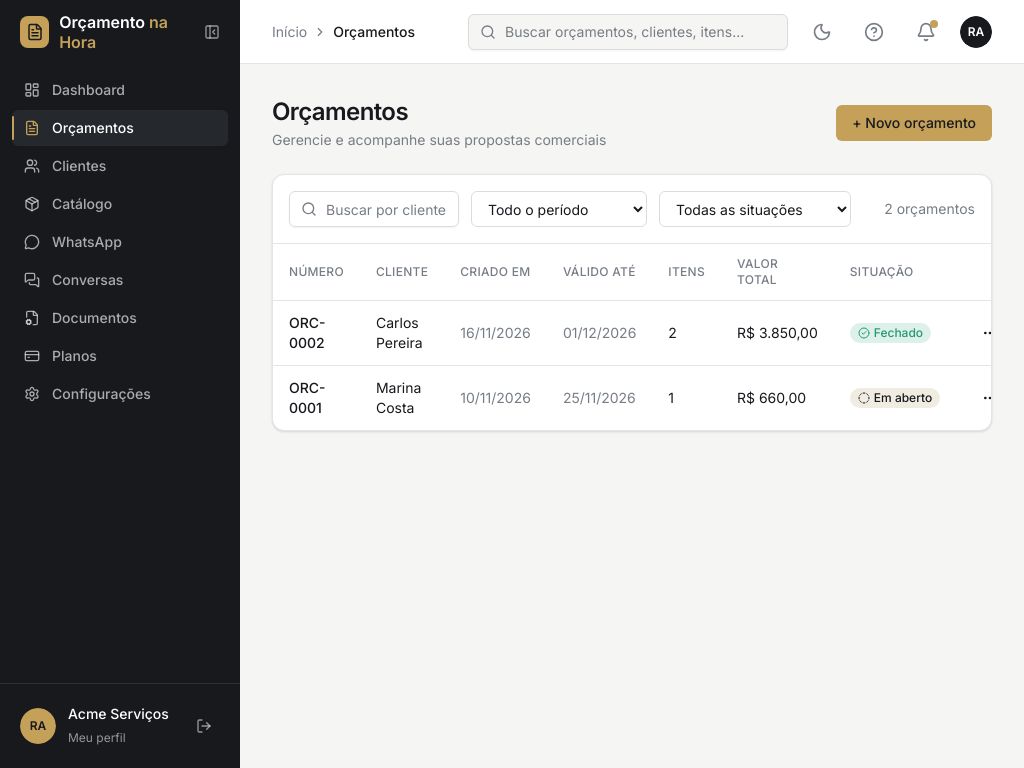
Test: cancelamento e resultado do orçamento › cancelar exige motivo e registra categoria e texto
Click the button named "Ações de ORC-0001" at (990, 398), box [972,380,1008,416]
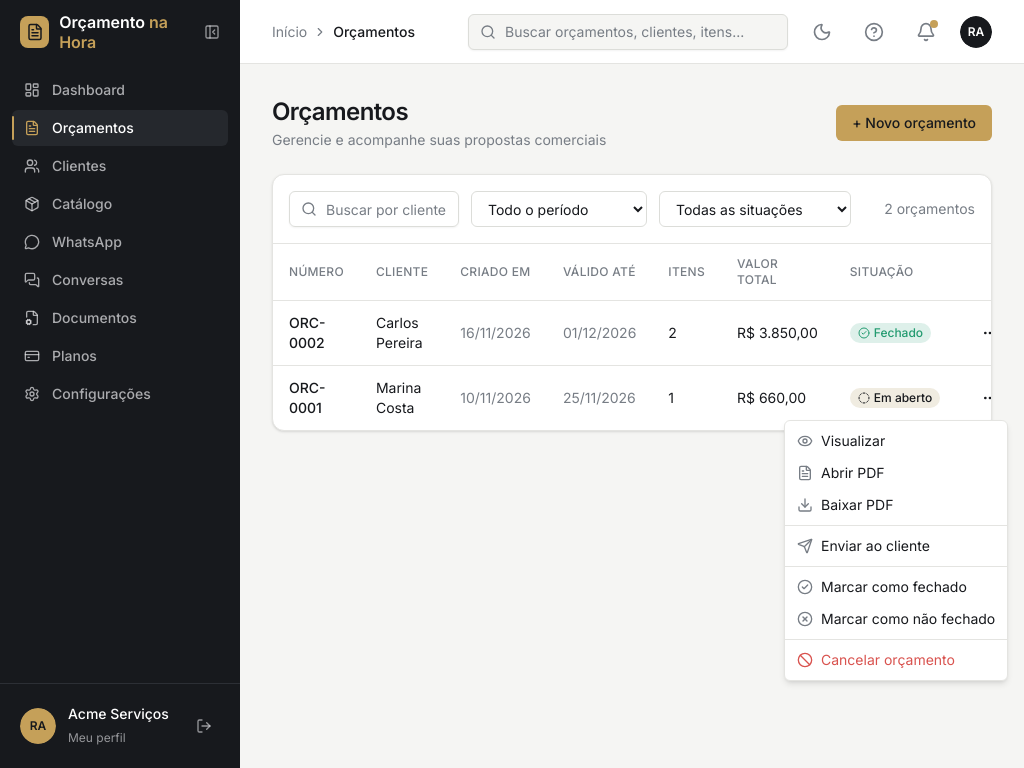
Click the menu item "Cancelar orçamento" at (876, 660), box [797,651,955,668]
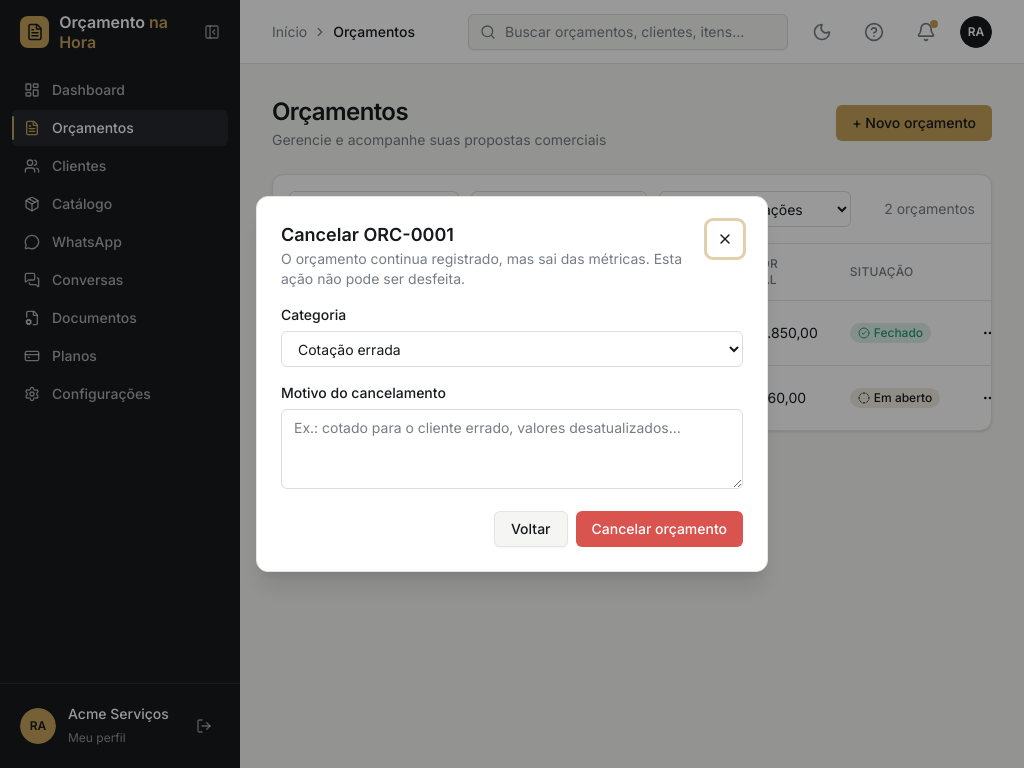
Click the button "Cancelar orçamento" at (659, 529), box [576,511,743,547]
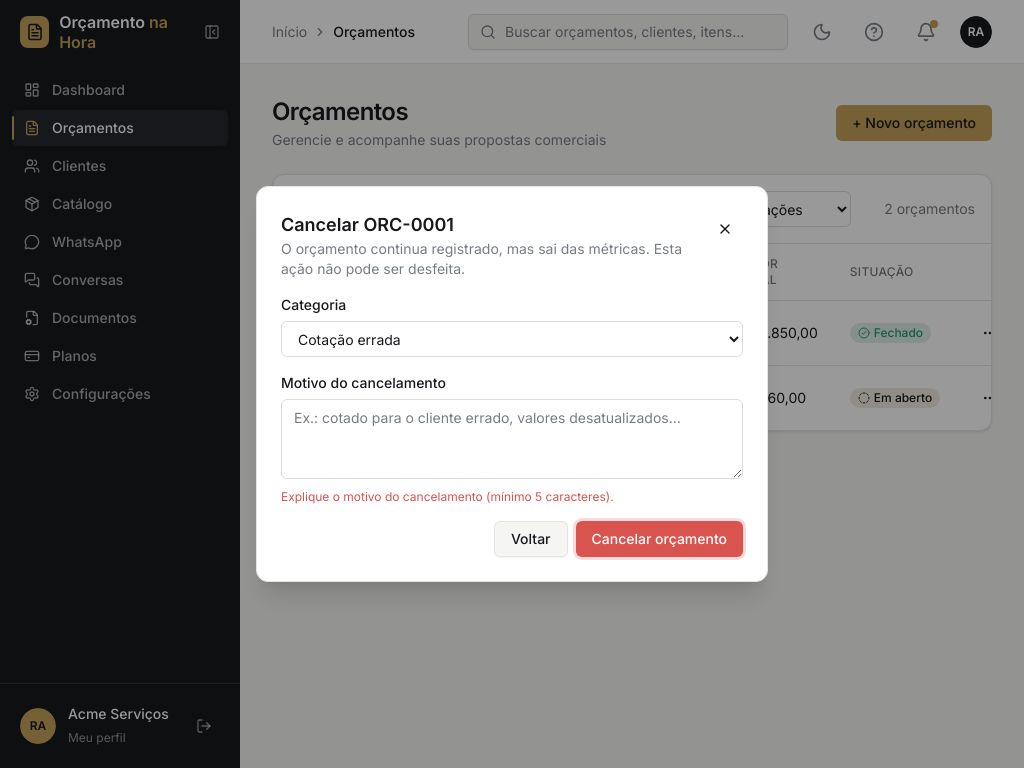
Expected: the message shows "mínimo 5 caracteres", [281,489,614,504]
Select "Orçamento duplicado" in the dropdown labelled "Categoria" at (512, 339), box [281,321,743,357]
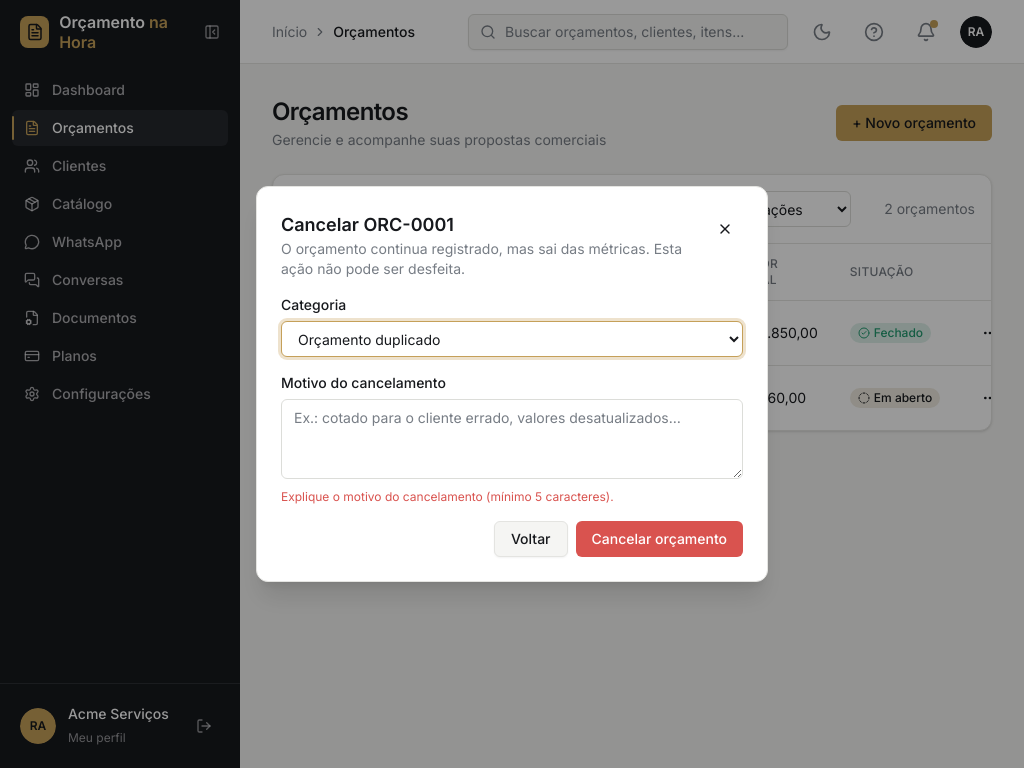
Type "Cotado em duplicidade" into the text box labelled "Motivo do cancelamento" at (512, 439), box [281,399,743,479]
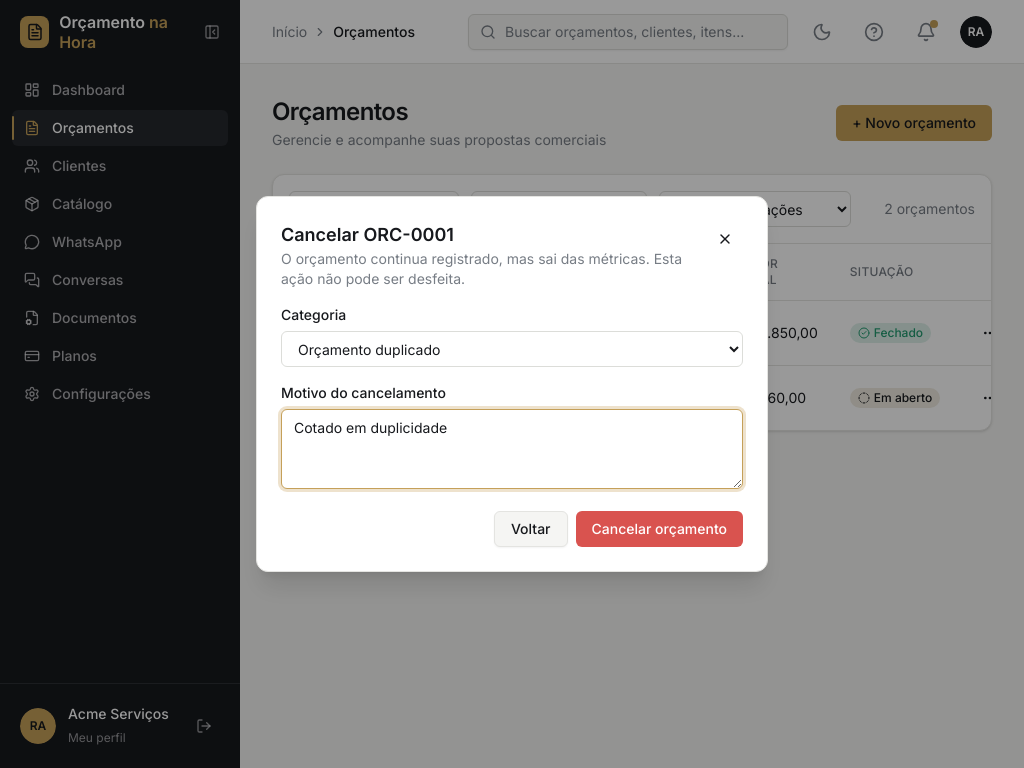
Click the button "Cancelar orçamento" at (659, 529), box [576,511,743,547]
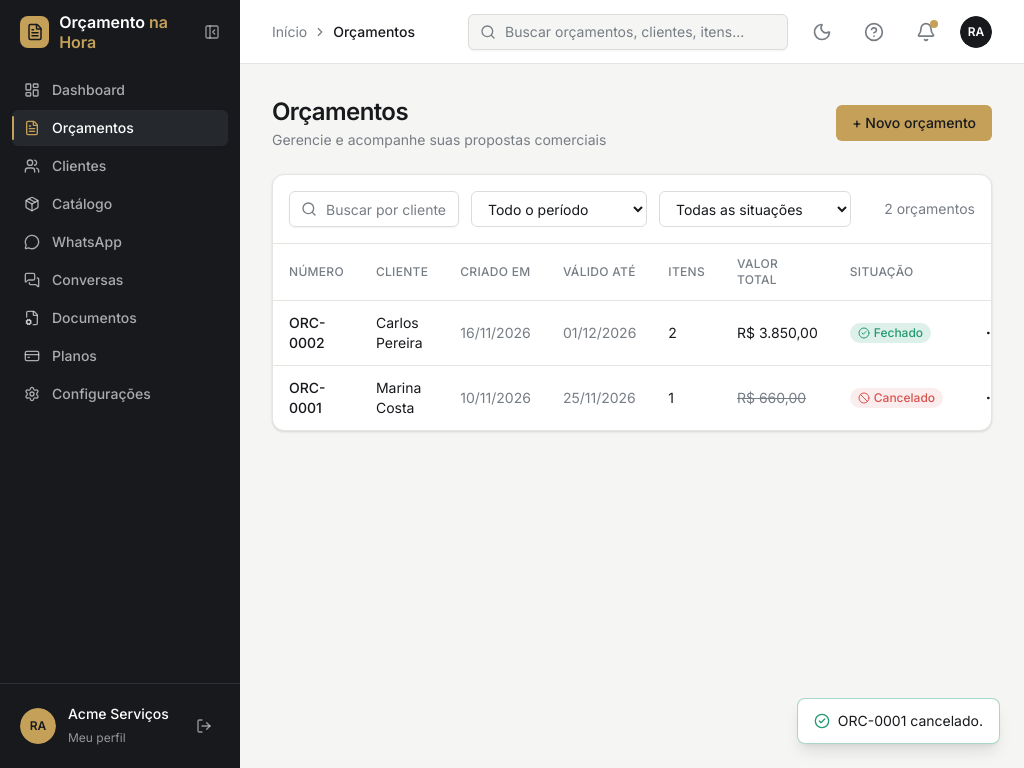
Expected: the text "ORC-0001 cancelado." is shown, [797,698,1000,744]
Expected: the text "Cancelado" is shown, [850,388,943,408]
